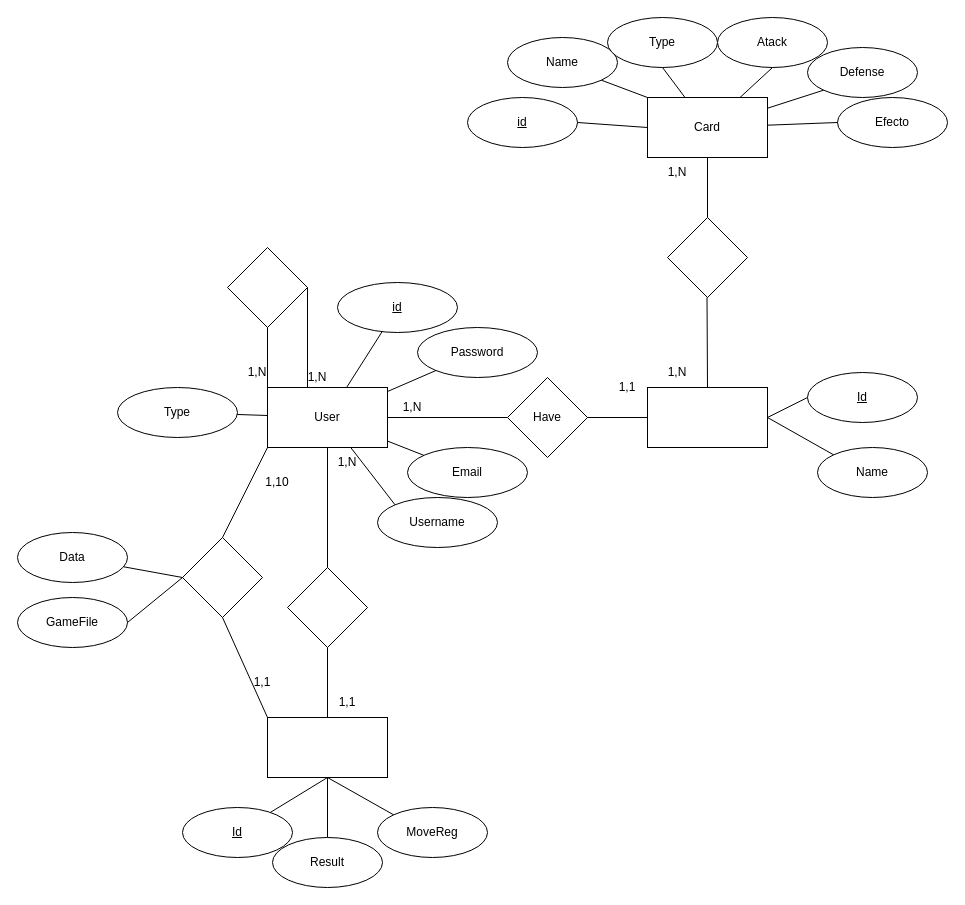
This 965x905 diagram has some shape labels left out. The centre of each missing label's shape, as x and y in pixels:
"Deck" goes at [707,417].
"form" goes at [707,257].
"Friend" goes at [267,287].
"Game" goes at [327,747].
"play" goes at [327,607].
"Save" goes at [222,577].
